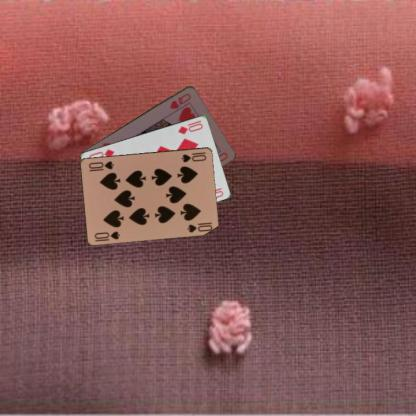10d: (175, 117, 204, 135)
10s: (179, 149, 208, 164), (92, 229, 121, 240)
Qh: (167, 90, 192, 110)
